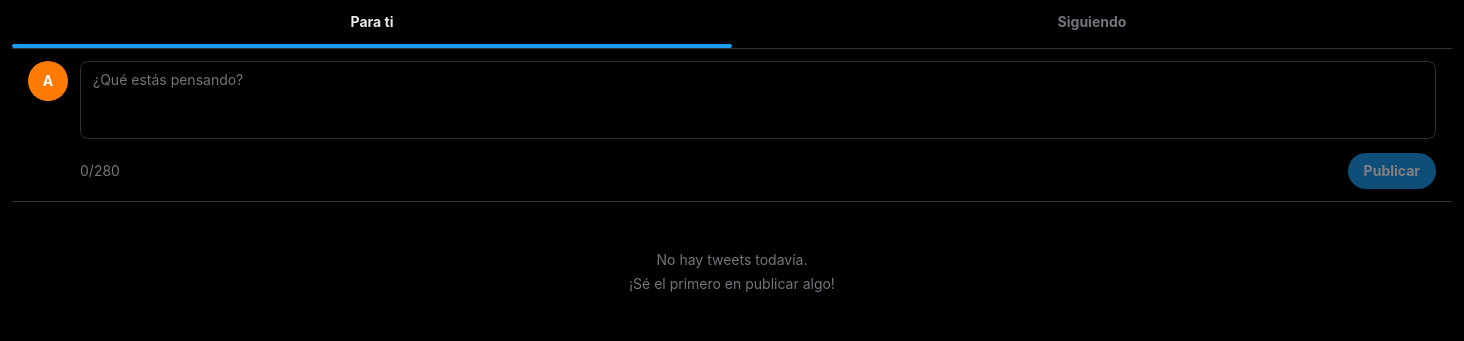
HomePage — crear tweet (integración) › muestra error de API si el tweet falla
This screenshot has width=1464, height=341.
Type "Tweet con error" into the text box named "Contenido del tweet" at (758, 100), box [80,61,1436,139]
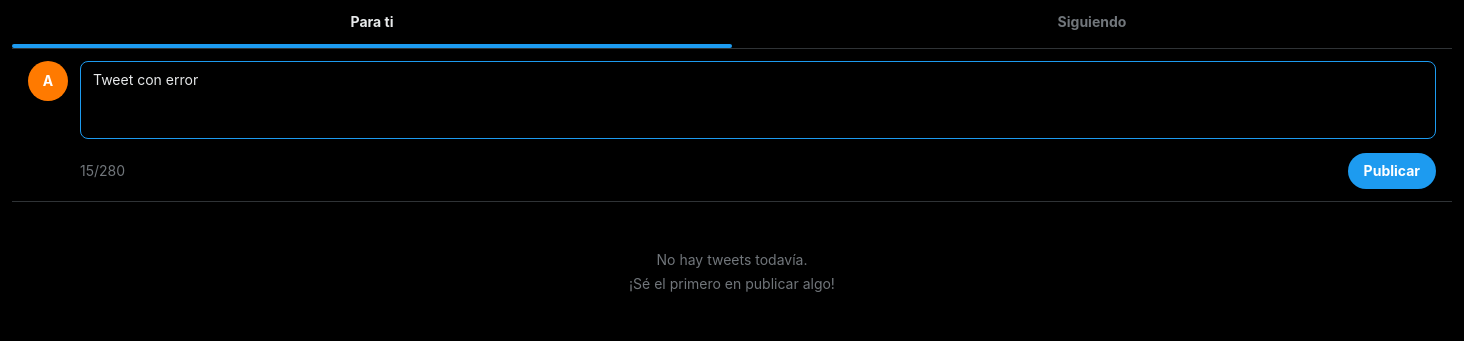
Click the button "Publicar" at (1392, 171), box [1348,153,1436,189]
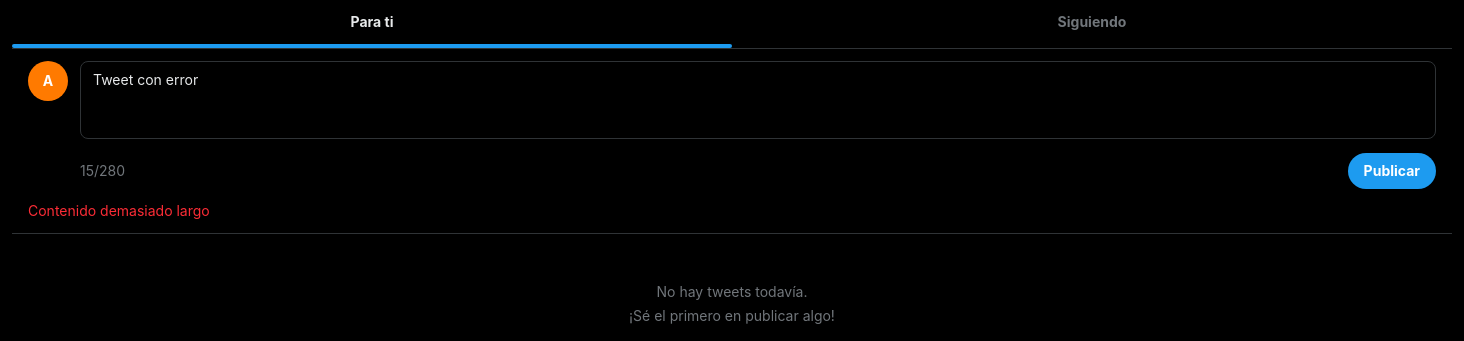
Expected: the message reads "Contenido demasiado largo", [28,202,210,219]
